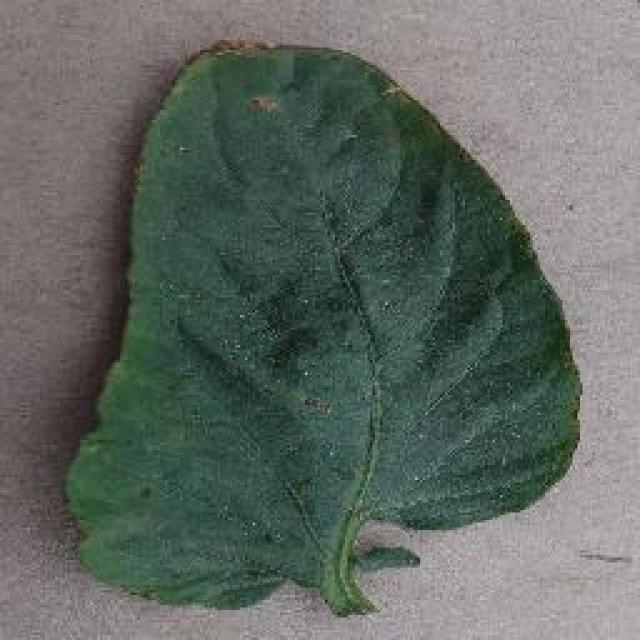Tomato bacterial spot leaf: (66, 40, 582, 620)
